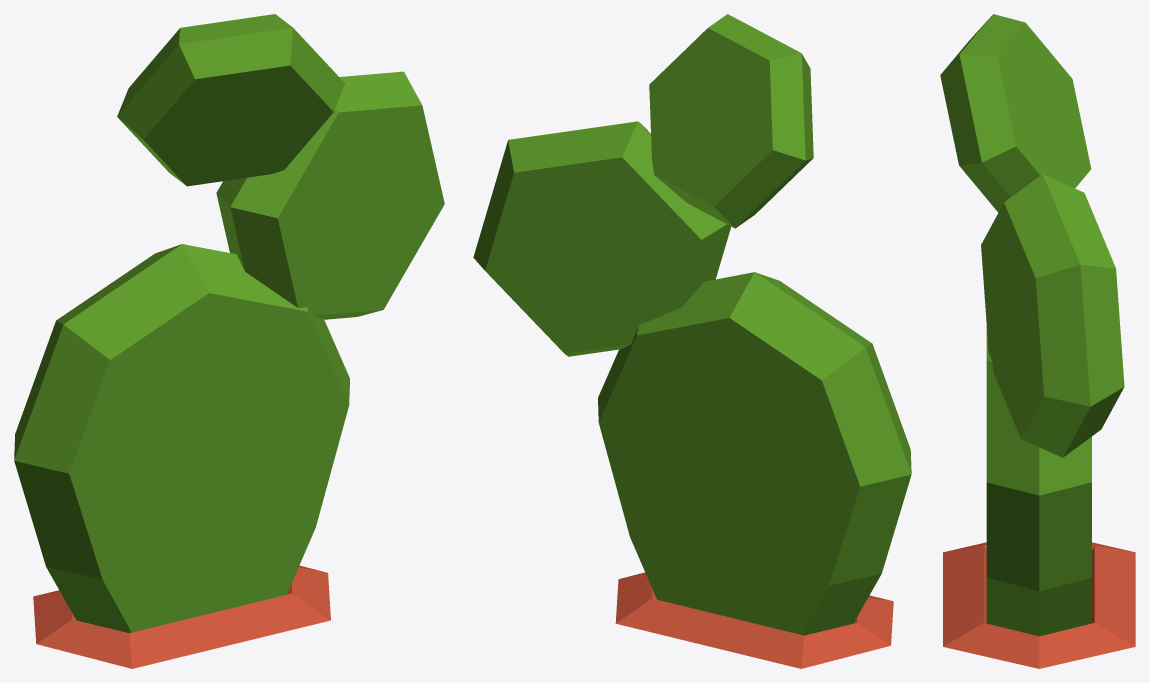
File: Cactus_11.fbx
3 views of the same model, side by side, from view 1: azimuth 30°, elevation 25°; view 2: azimuth 150°, elevation 25°; view 3: azimuth 270°, elevation 25° (orthographic). The views are drawn at different scales.
Parts seen in each view (by area): view 1: Cactus_4; view 2: Cactus_4; view 3: Cactus_4.
Boxes of the visible parts, bbox=[...] form: Cactus_4: bbox=[14, 14, 444, 668]; Cactus_4: bbox=[473, 14, 911, 668]; Cactus_4: bbox=[940, 14, 1135, 668].
Size of the model in its own units: 76.18 by 97.57 by 29.89.
1 material, 1 textured.
